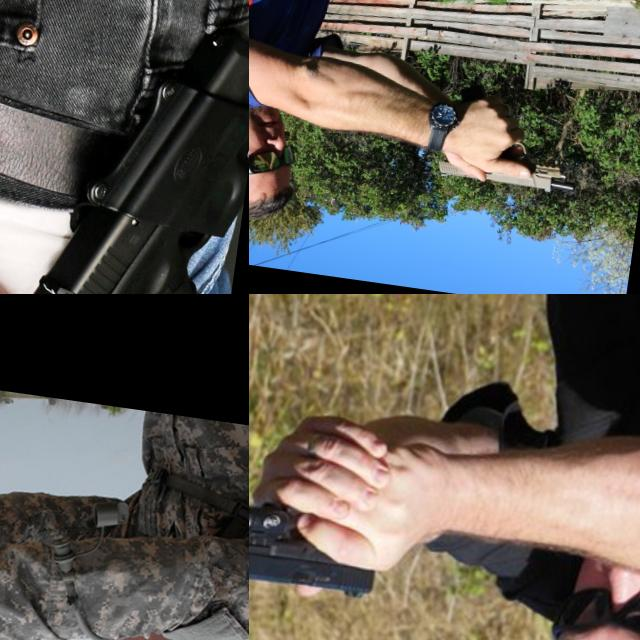handgun: (17, 1, 249, 294), (249, 483, 387, 605), (430, 128, 585, 198)
